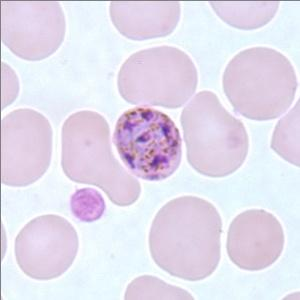Infected: (112, 106, 185, 183)
Uninfected: (61, 109, 140, 206), (148, 193, 223, 282), (181, 89, 249, 178), (224, 47, 297, 120), (117, 44, 198, 109), (12, 213, 80, 282), (0, 108, 55, 187), (0, 0, 67, 64), (227, 210, 285, 270), (105, 0, 180, 42)
